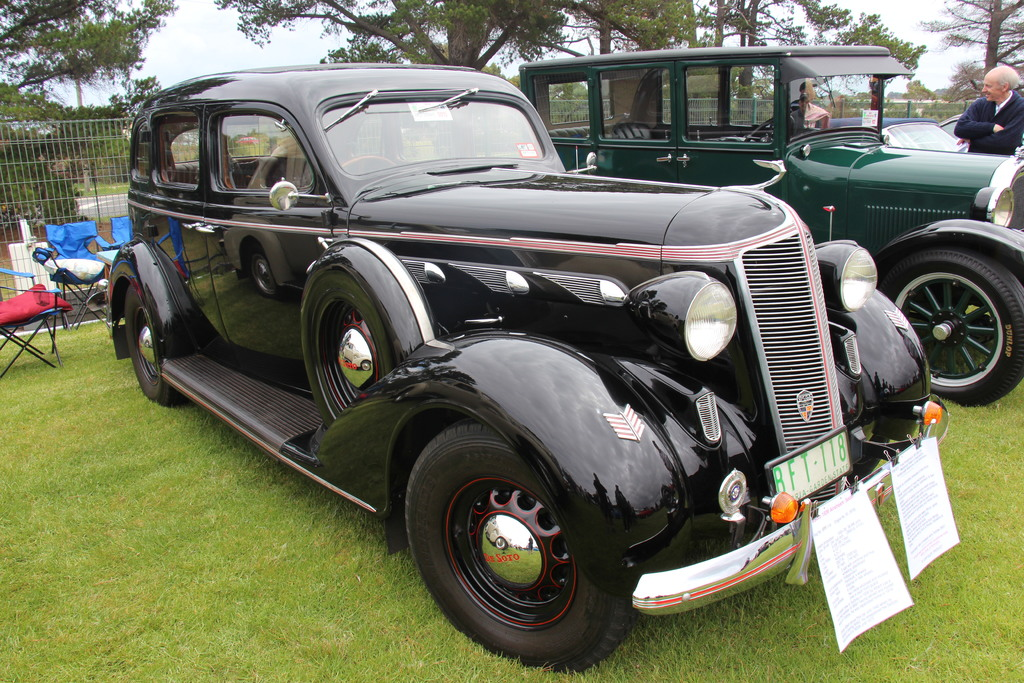Car: (109, 62, 945, 670), (520, 47, 1023, 410)
